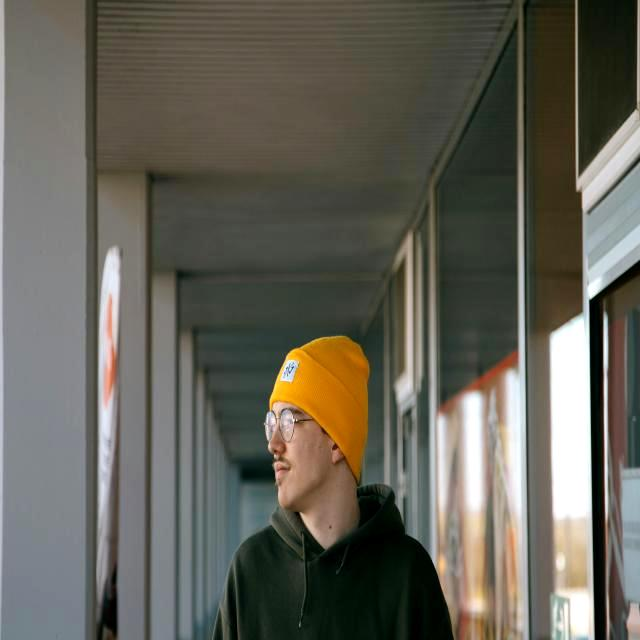no_hard_hat: (269, 336, 369, 484)
person: (213, 336, 453, 640)
